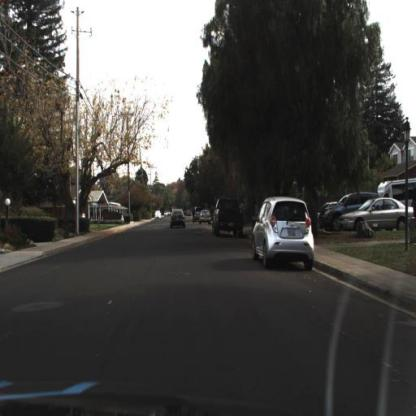biker: (190, 203, 198, 230)
car: (251, 193, 317, 274), (341, 197, 416, 237), (323, 194, 384, 232), (209, 196, 246, 239), (170, 208, 188, 232), (199, 207, 213, 227)
